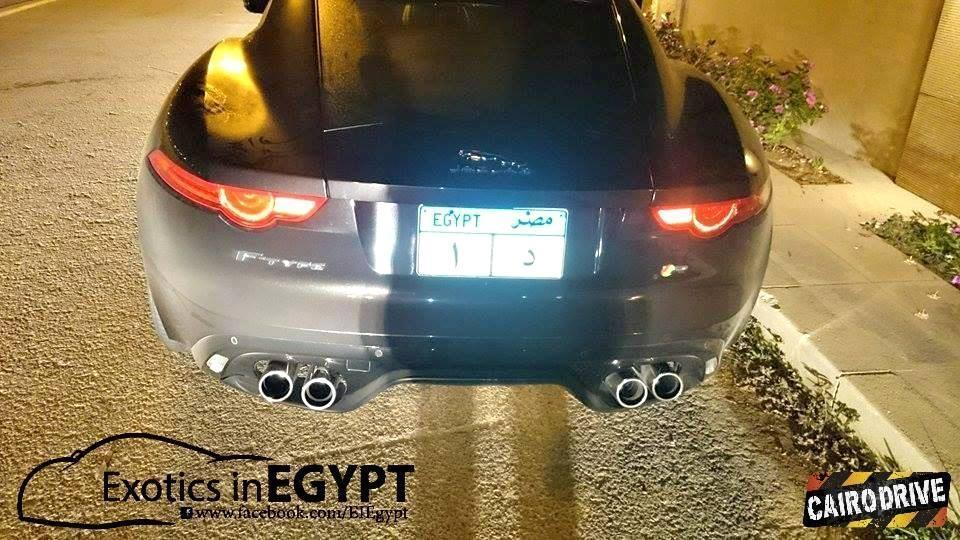1: (449, 236, 464, 270)
License Plate: (412, 203, 571, 284)
car: (141, 0, 774, 417)
daal: (520, 246, 538, 271)
